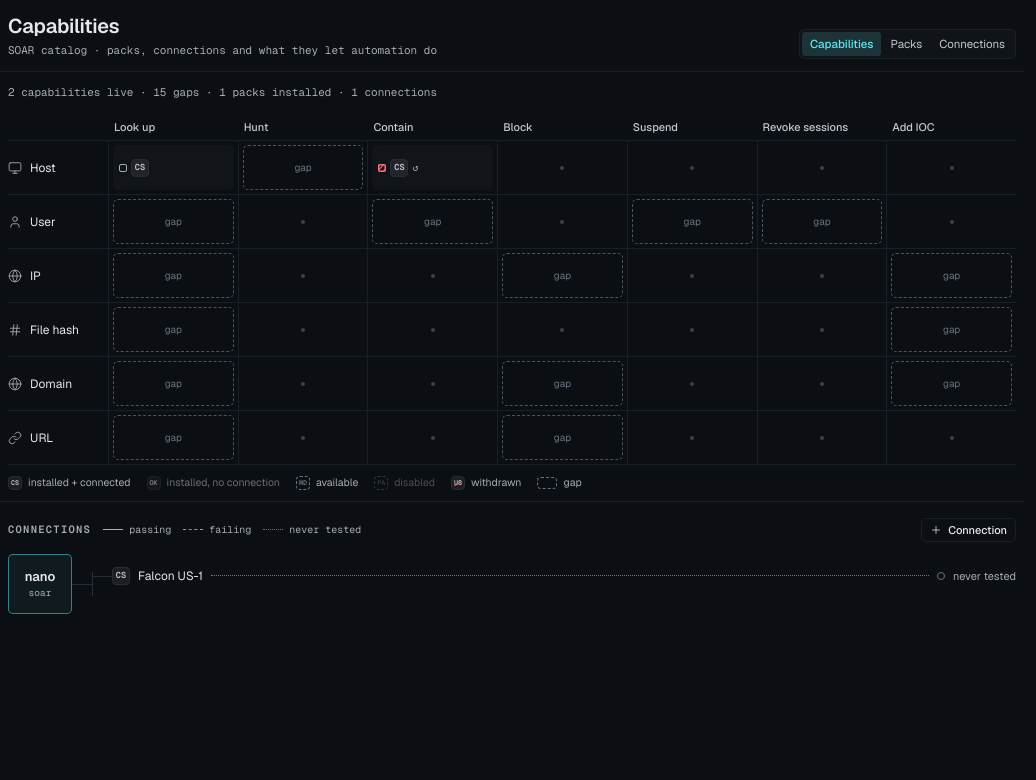
Scenario: Capabilities › map: a meaningful pair with no provider is a gap
The width and height of the screenshot is (1036, 780).
Click the button with aria-label "Domain × Block": x=562, y=383 [497,356,627,410]
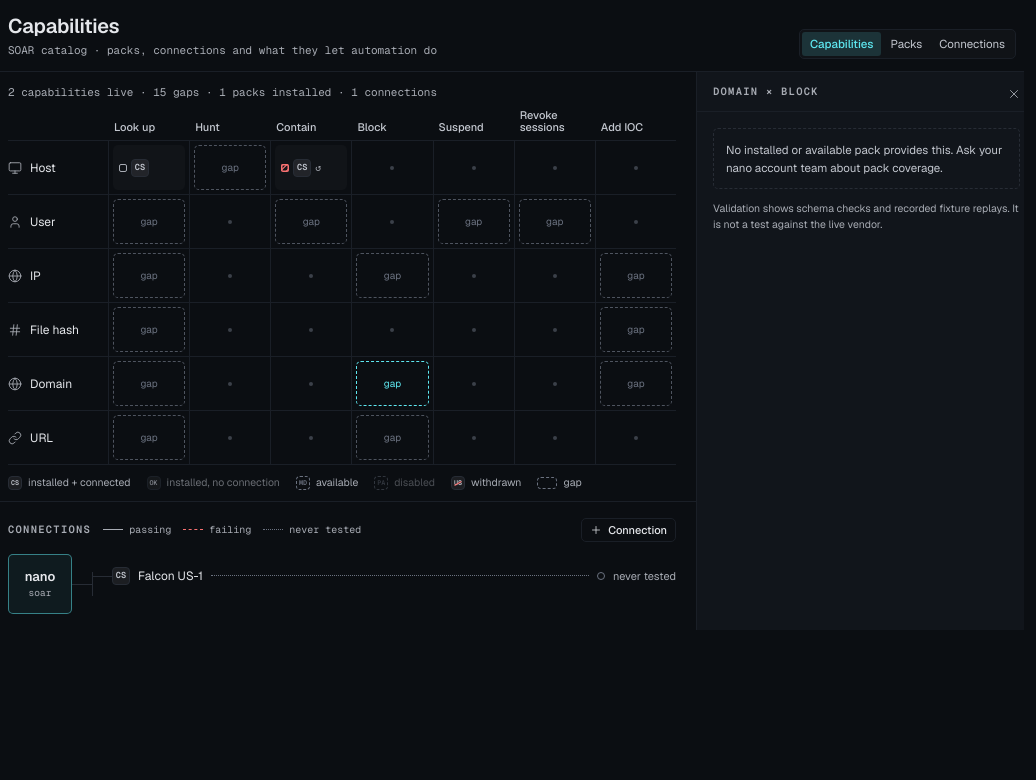
Check: the text "No installed or available pack provides this" is shown, box [726,142,1002,175]
